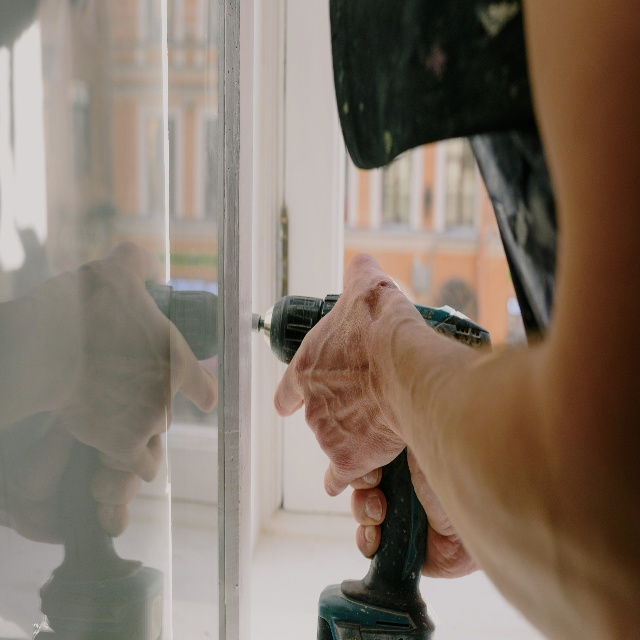Sin_guantes: (273, 252, 410, 499), (343, 432, 481, 582)
